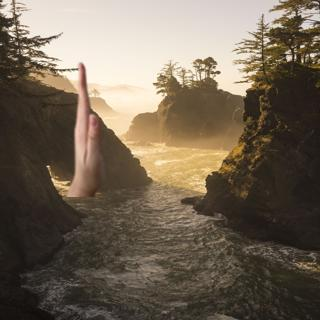Right: (62, 60, 111, 187)
